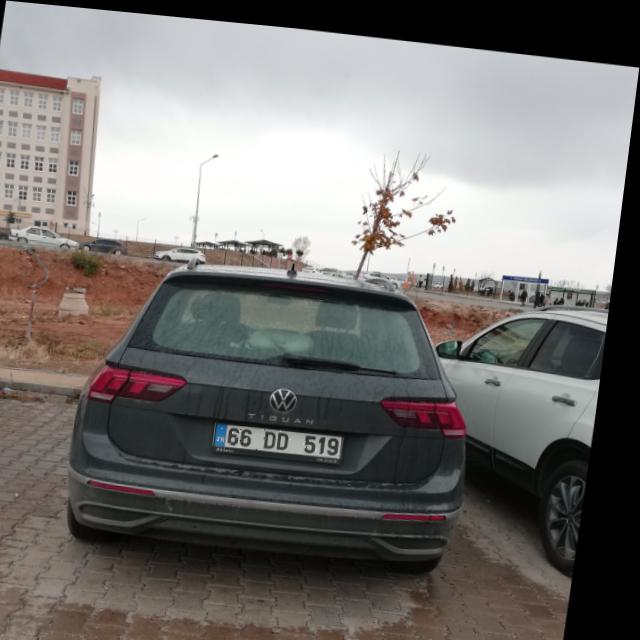license_plate: (225, 417, 353, 451)
